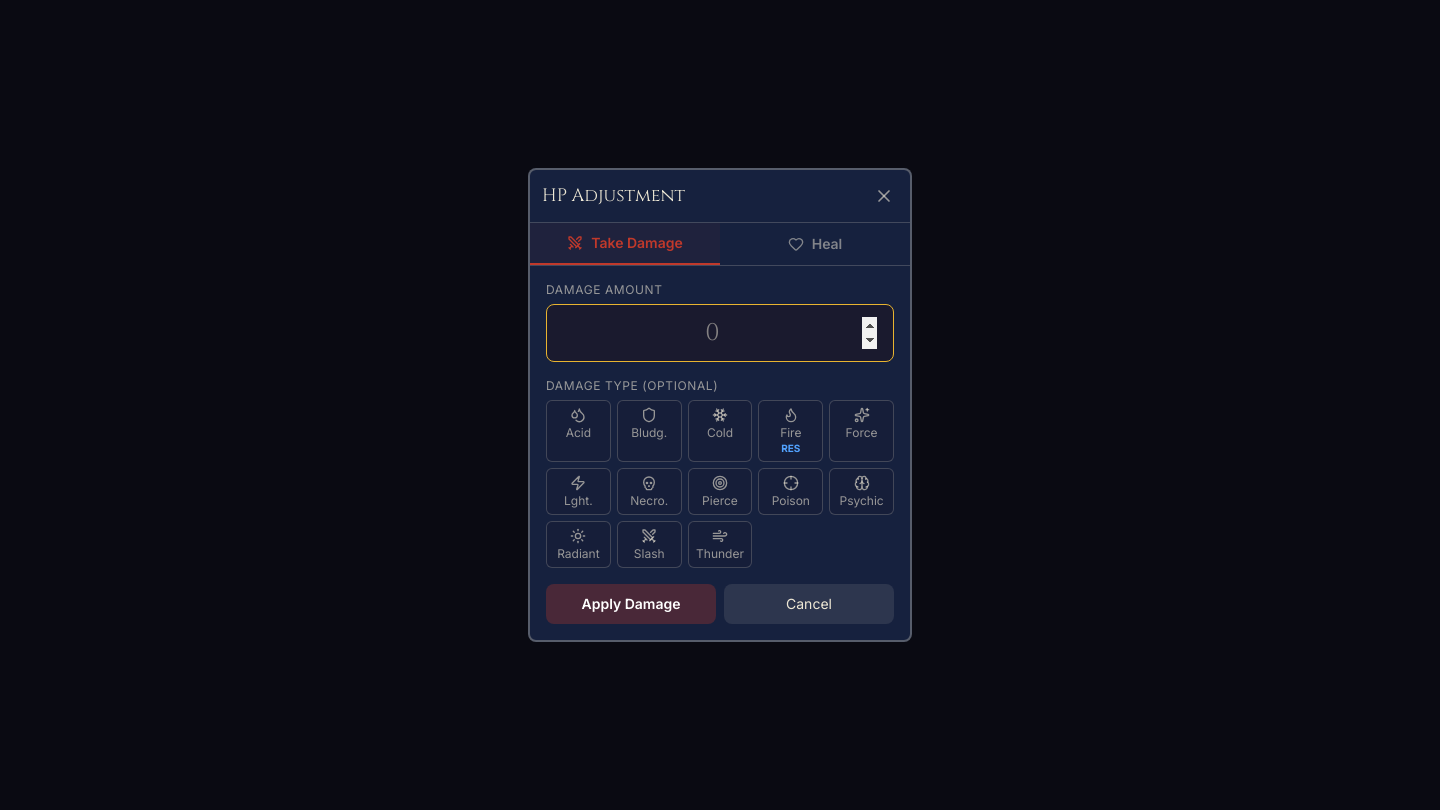
Test: DamageHealModal › shows resistance info in damage preview
Type "10" into the number field with test id "hp-amount-input" at (720, 333), box top-left (546, 304), bottom-right (894, 362)
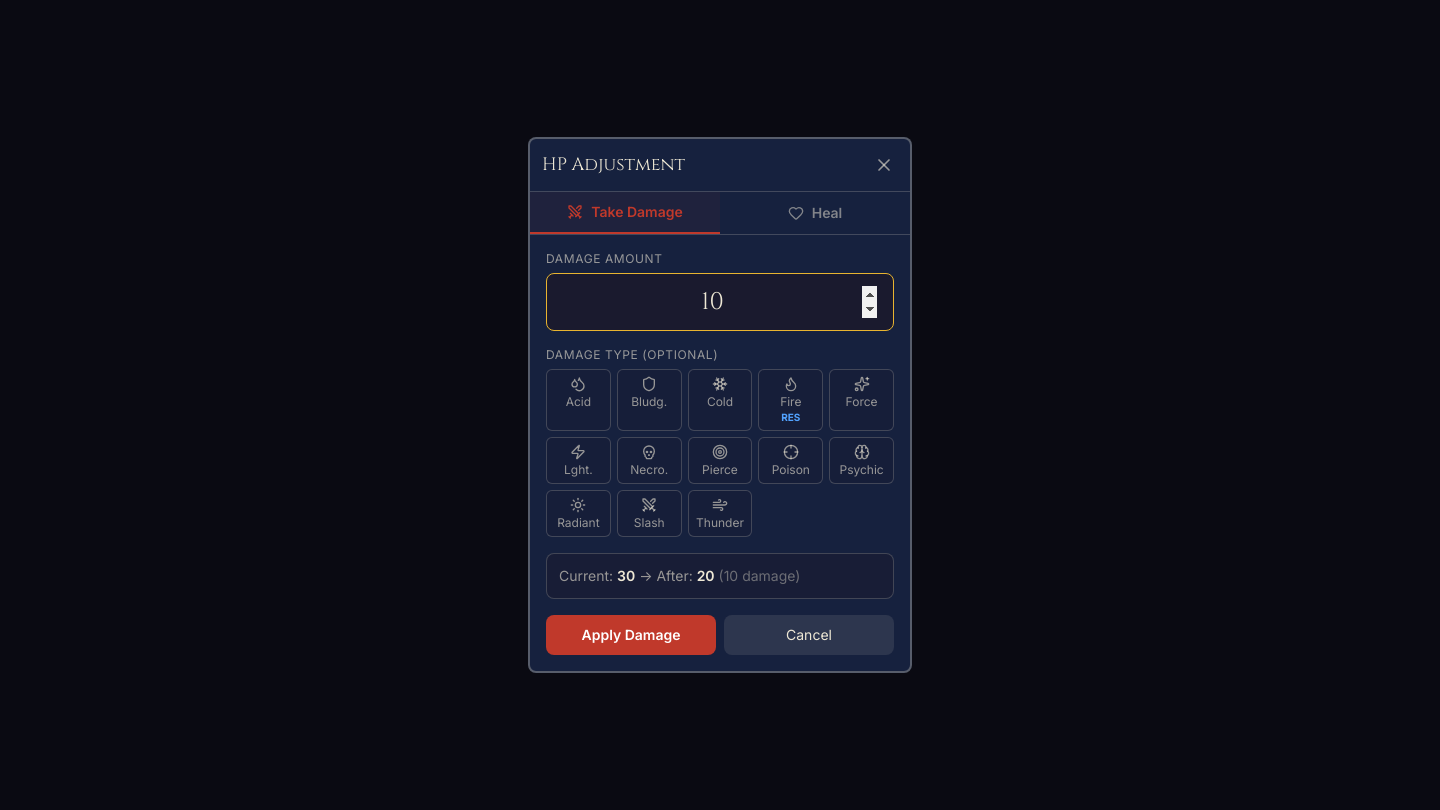
# Select fire damage type
Click the button with test id "damage-type-fire" at (791, 400), box top-left (758, 369), bottom-right (823, 431)
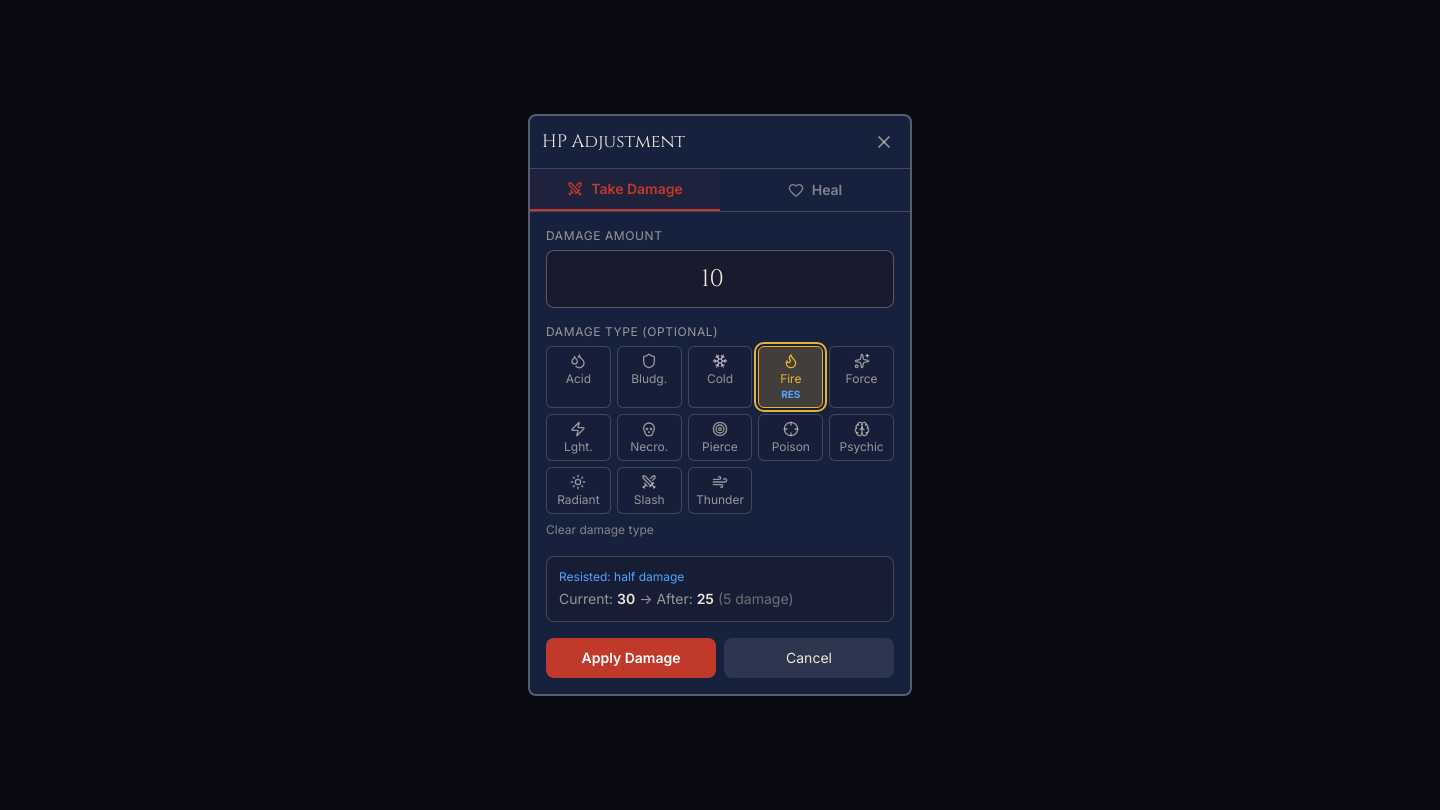
Expected: the text with test id "damage-relation-text" shows "Resisted", top-left (559, 569), bottom-right (684, 584)
